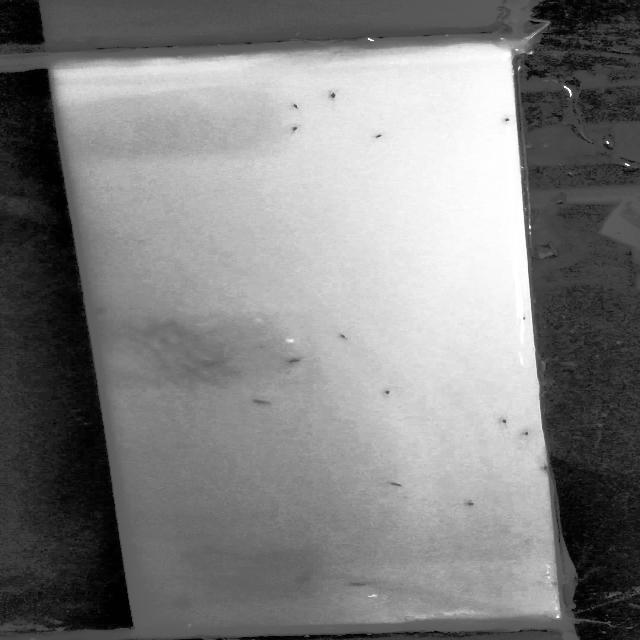shrimp: (384, 479, 412, 491), (332, 331, 354, 345), (458, 498, 479, 512), (286, 100, 315, 110), (292, 574, 322, 583), (280, 355, 310, 364), (287, 124, 313, 134), (169, 598, 203, 605), (346, 580, 369, 590), (497, 417, 516, 428), (380, 387, 399, 398), (364, 132, 390, 140), (327, 91, 350, 100), (535, 463, 552, 474), (250, 398, 272, 404), (499, 117, 511, 127), (521, 429, 530, 438)
